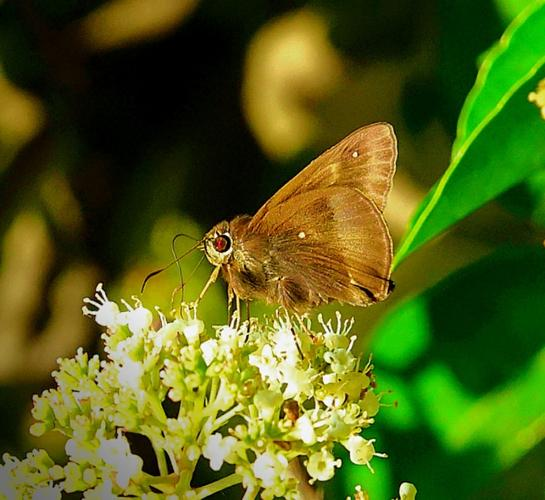Hesperiidae: (140, 119, 401, 338)
